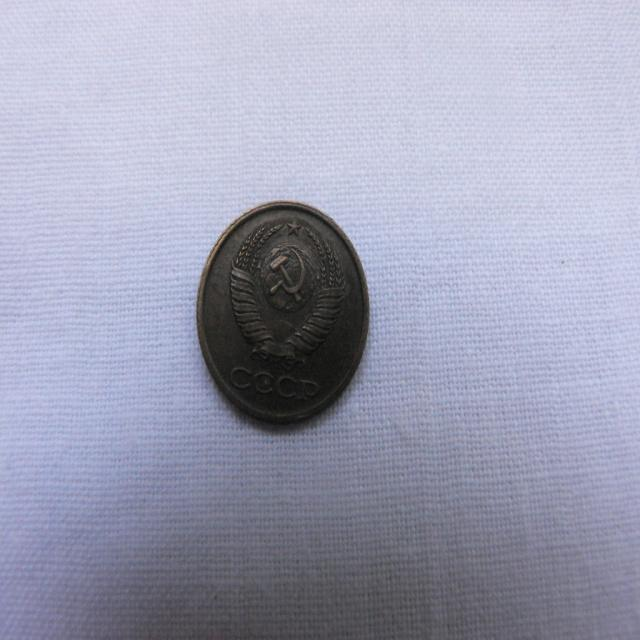Coin: (193, 194, 372, 427)
